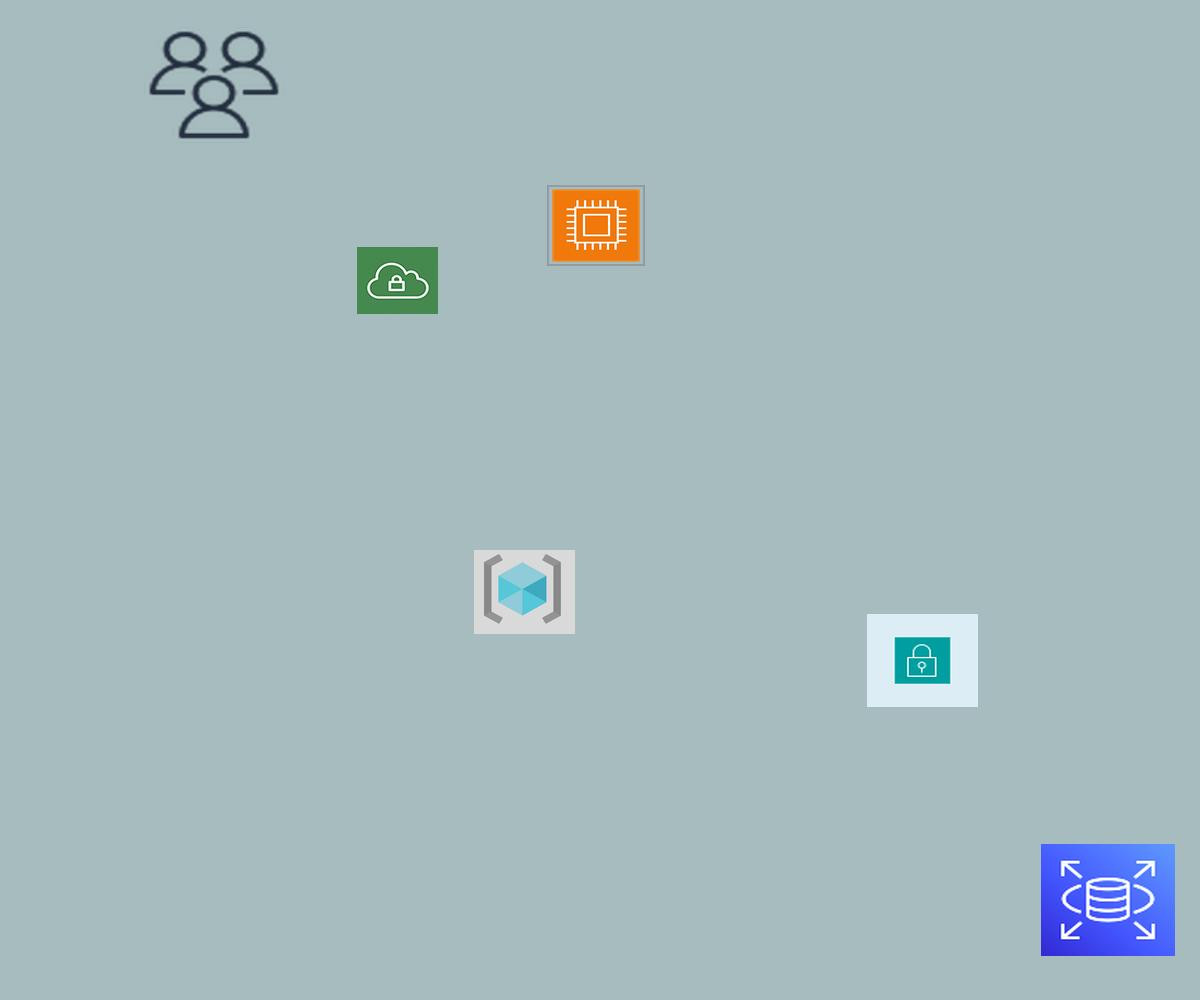AWS-Category_Compute: (547, 185, 645, 266)
AWS-Private-subnet: (867, 614, 978, 707)
AWS-Private_vpc: (357, 247, 438, 314)
AWS-RDS: (1041, 844, 1175, 956)
AWS-Res_Users: (144, 27, 284, 143)
Azure_resource_group: (474, 550, 575, 634)
